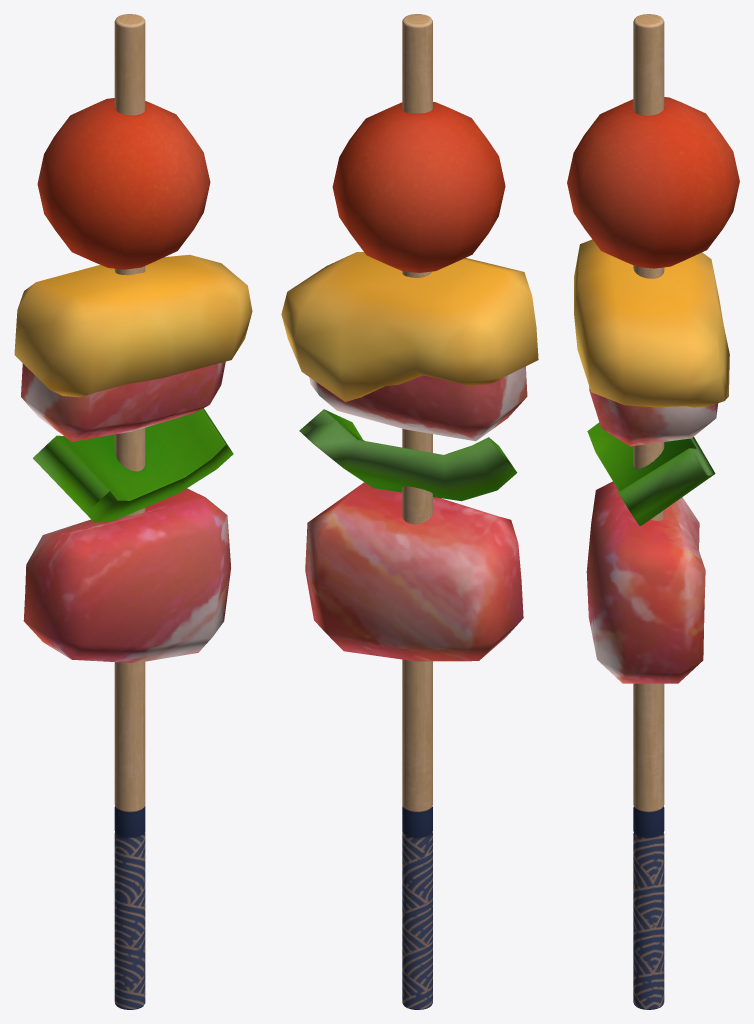
Rendered from JapaneseRestaurant_KushiD.fbx.
3 views of the same model, side by side, from view 1: azimuth 30°, elevation 25°; view 2: azimuth 150°, elevation 25°; view 3: azimuth 270°, elevation 25° (orthographic).
Parts seen in each view (by area): view 1: JapaneseRestaurant_KushiD; view 2: JapaneseRestaurant_KushiD; view 3: JapaneseRestaurant_KushiD.
Boxes of the visible parts, bbox=[...] form: JapaneseRestaurant_KushiD: bbox=[14, 14, 252, 1009]; JapaneseRestaurant_KushiD: bbox=[281, 14, 538, 1009]; JapaneseRestaurant_KushiD: bbox=[567, 14, 739, 1009].
Bounding box in the file's own units: 6.08 × 26.4 × 4.2.
